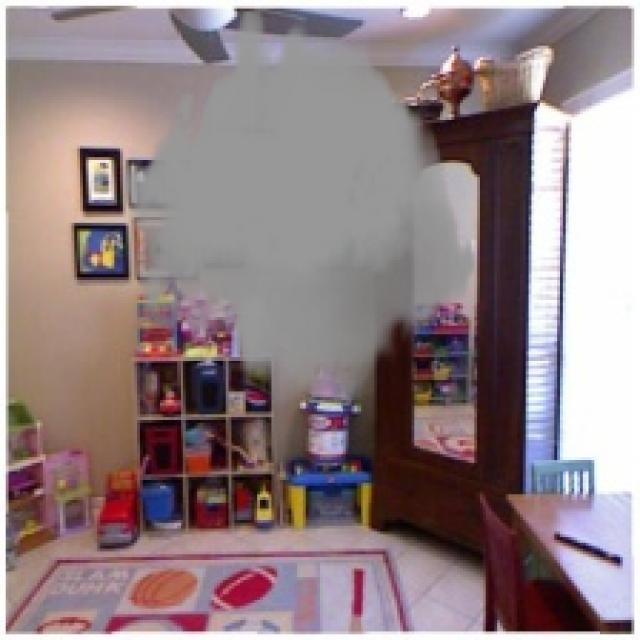smoke: (120, 11, 477, 403)
